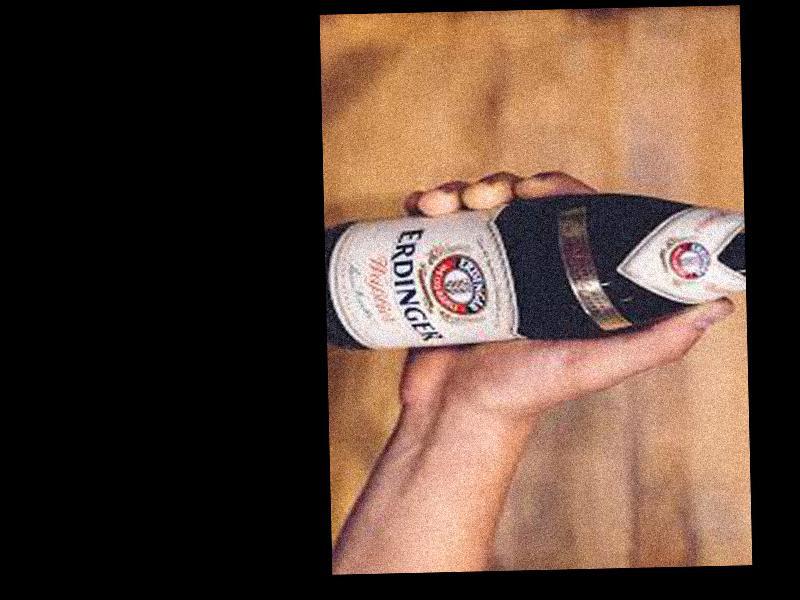Beer: (323, 191, 742, 353)
